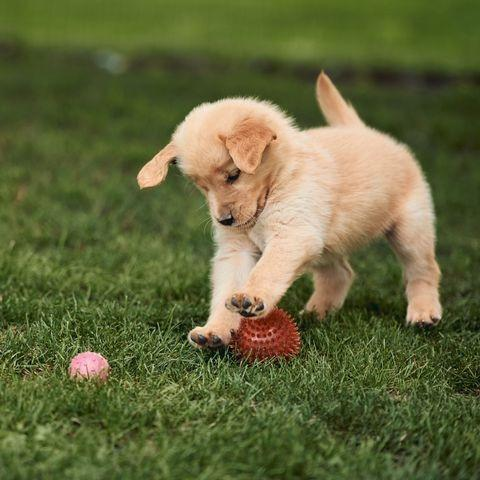puppy-dog: (136, 67, 441, 353)
